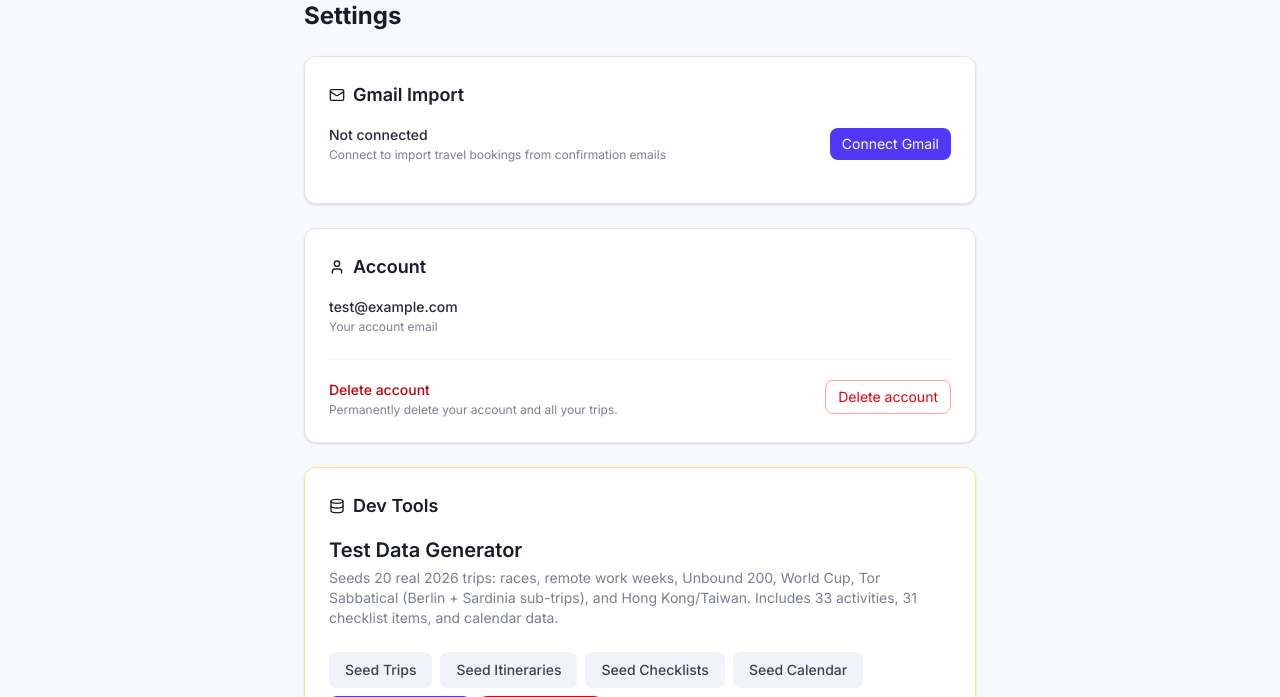
Test: SettingsPage › opens confirm dialog when Delete Account is clicked
Click the button "Delete account": (888, 397) [825,380,951,414]
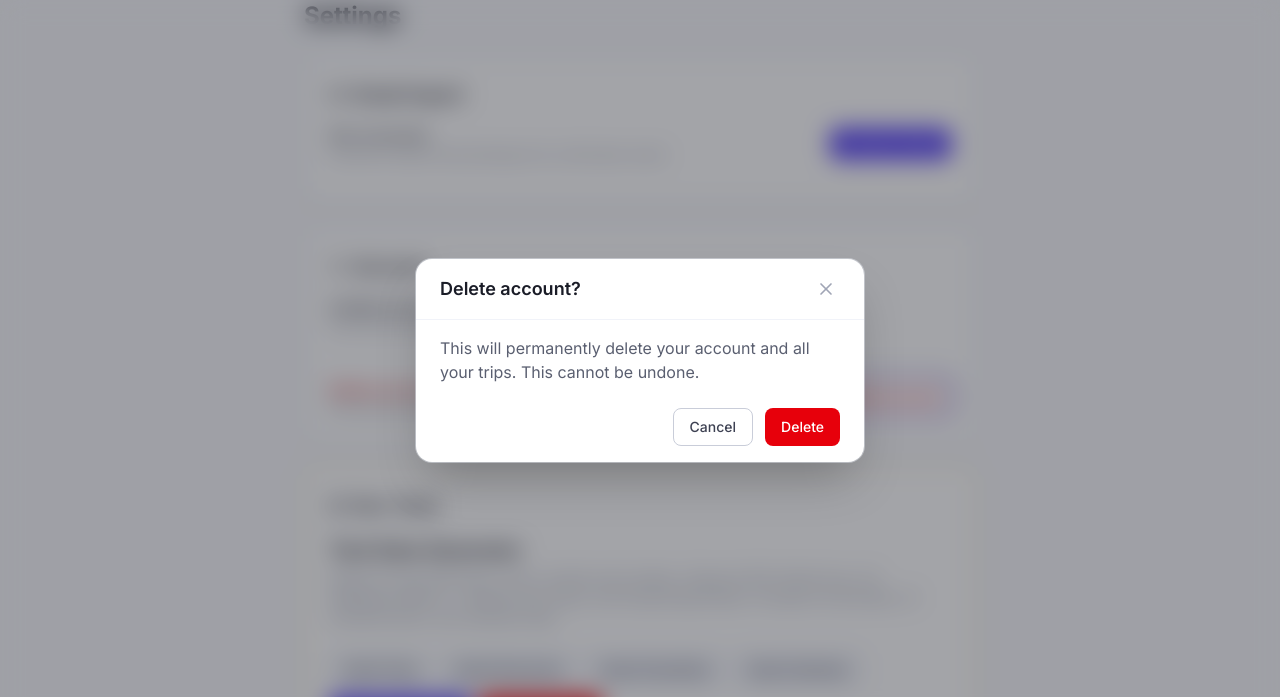
Result: the text "this cannot be undone" is shown at [440,338,810,382]
